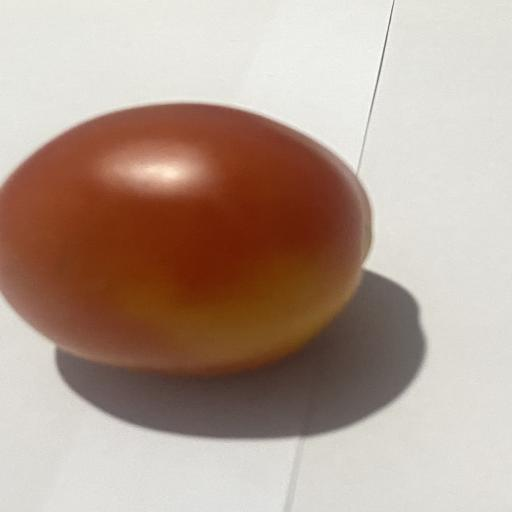ripe: (0, 103, 371, 375)
